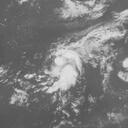cyclone: (36, 42, 84, 95)
